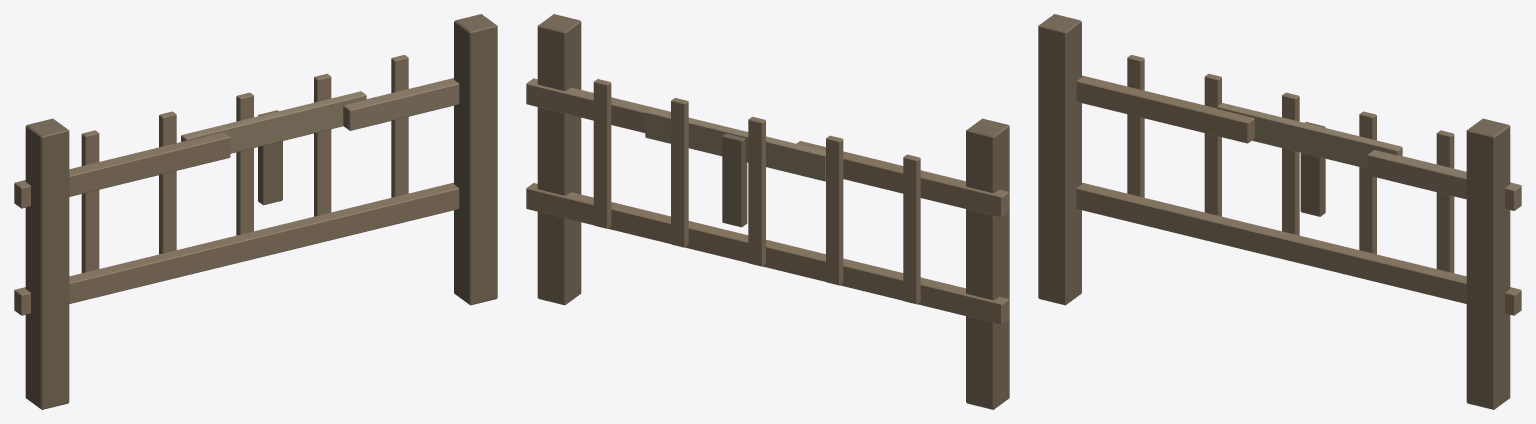
File: env_fence_rail_repaired_c_v03_five_pickets.glb
3 views of the same model, side by side, from view 1: azimuth 30°, elevation 25°; view 2: azimuth 150°, elevation 25°; view 3: azimuth 330°, elevation 25° (orthographic).
Visible parts, largest first — view 1: material_0, material_2, material_3, material_1; view 2: material_0, material_2, material_3, material_1; view 3: material_0, material_2, material_3, material_1.
Part boxes in pixels (x1,y1,x2,y2): material_0: (14, 55, 459, 315); material_2: (25, 14, 497, 409); material_3: (181, 91, 366, 153); material_1: (343, 78, 459, 130); material_0: (526, 79, 1008, 324); material_2: (537, 14, 1009, 409); material_3: (645, 108, 825, 181); material_1: (526, 78, 670, 132); material_0: (1076, 55, 1521, 315); material_2: (1038, 14, 1510, 409); material_3: (1217, 103, 1402, 168); material_1: (1367, 150, 1521, 210).
Size of the model in its own units: 2 by 1.1 by 0.195.
